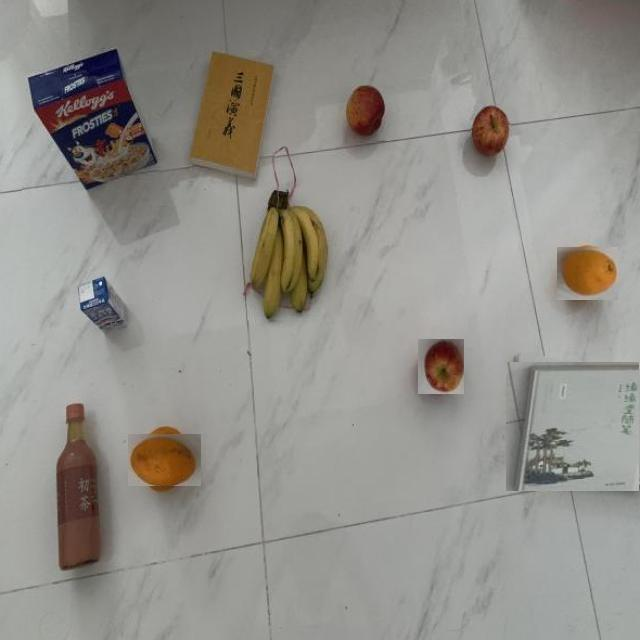Apple: (418, 338, 464, 394), (345, 85, 386, 142), (471, 105, 511, 160)
Banana: (247, 187, 334, 320)
Book: (506, 362, 640, 491), (190, 50, 274, 180)
Cerealbox: (22, 46, 159, 194)
Orange: (129, 434, 201, 486), (556, 247, 618, 300)
